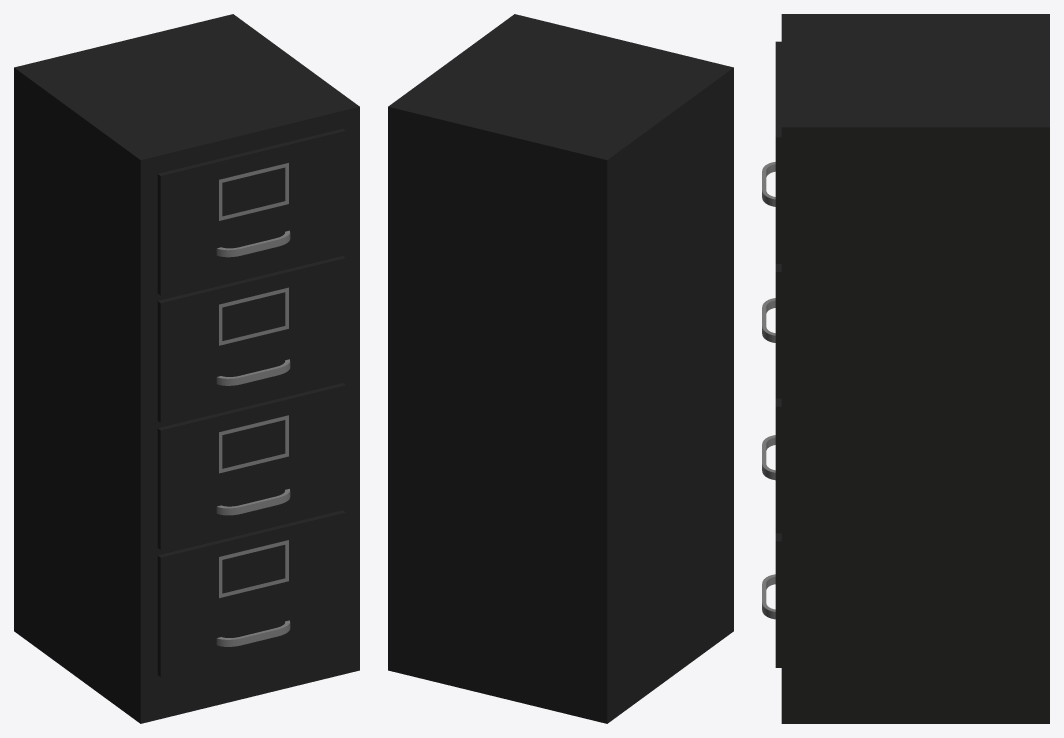
Rendered from Cabinet.FBX.
The picture shows the model from 3 angles, left to right: view 1: azimuth 30°, elevation 25°; view 2: azimuth 150°, elevation 25°; view 3: azimuth 270°, elevation 25°; orthographic projection. The views are drawn at different scales.
Visible parts, largest first — view 1: Cabinet; view 2: Cabinet; view 3: Cabinet.
Boxes of the visible parts, left/top/right/bottom form: Cabinet: left=14, top=14, right=359, bottom=723; Cabinet: left=388, top=14, right=733, bottom=723; Cabinet: left=762, top=14, right=1049, bottom=723.
Size of the model in its own units: 16.26 by 39.96 by 17.46.
